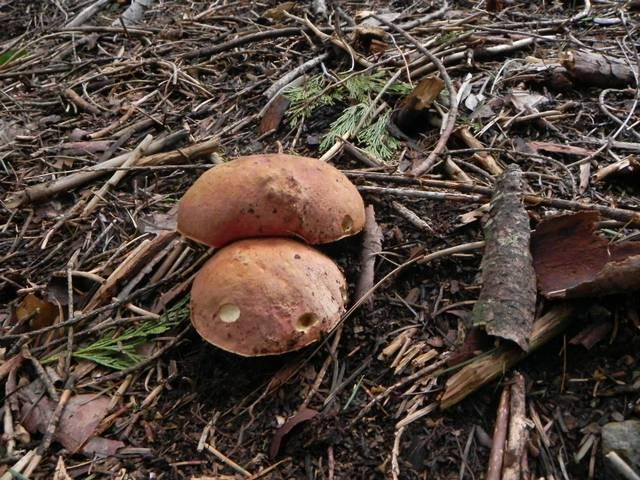edible_mushroom: (175, 151, 366, 357), (188, 236, 348, 357)
